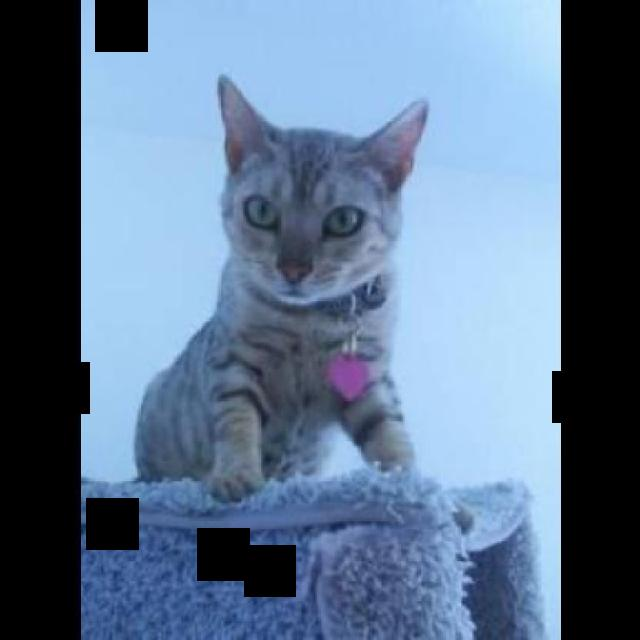unauthorized: (131, 72, 429, 502)
